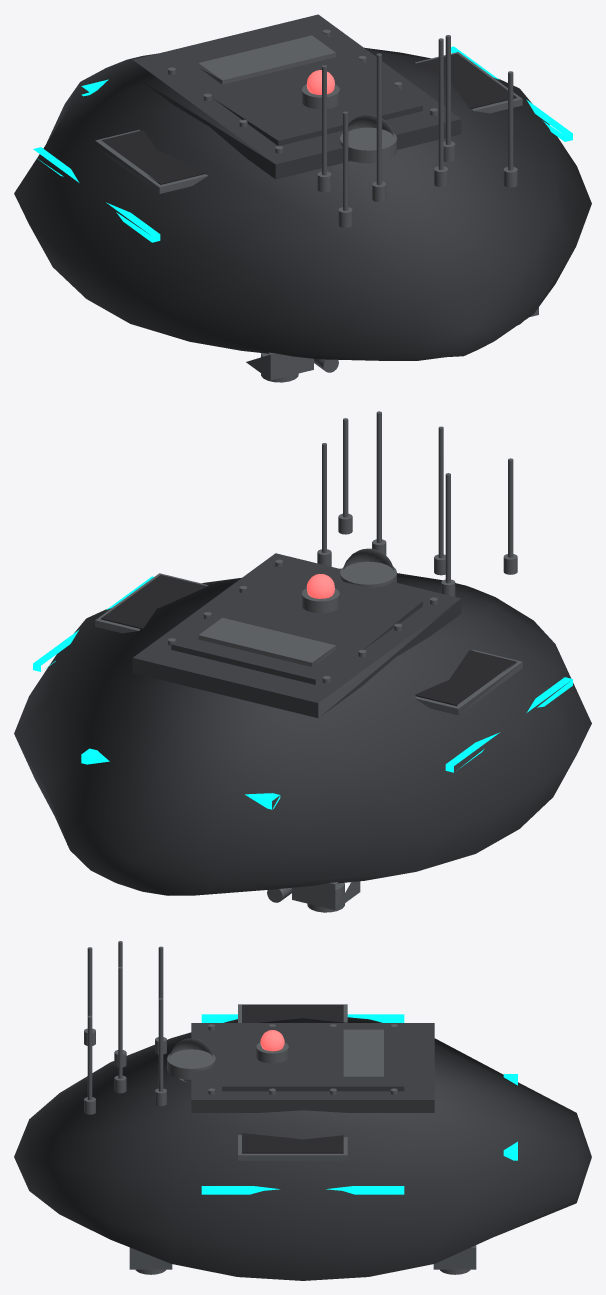
File: GARUDA_BODY.glb
3 renders of one model, top to bottom at view 1: azimuth 30°, elevation 25°; view 2: azimuth 150°, elevation 25°; view 3: azimuth 270°, elevation 25°, orthographic. The views are drawn at different scales.
Parts seen in each view (by area): view 1: BODY_MAIN, AIRFRAME_SOCKETS, AIRFRAME_LOUVERS, AIRFRAME_DETAILS; view 2: BODY_MAIN, AIRFRAME_SOCKETS, AIRFRAME_LOUVERS, AIRFRAME_DETAILS; view 3: BODY_MAIN, AIRFRAME_SOCKETS, AIRFRAME_LOUVERS, AIRFRAME_DETAILS.
Part boxes in pixels (box(x1,y1,x2,y2)): BODY_MAIN: box(14, 14, 591, 360); AIRFRAME_SOCKETS: box(95, 29, 538, 382); AIRFRAME_LOUVERS: box(101, 53, 516, 184); AIRFRAME_DETAILS: box(33, 46, 572, 242); BODY_MAIN: box(14, 553, 591, 895); AIRFRAME_SOCKETS: box(67, 411, 522, 912); AIRFRAME_LOUVERS: box(101, 575, 516, 705); AIRFRAME_DETAILS: box(33, 576, 572, 809); BODY_MAIN: box(14, 1017, 591, 1280); AIRFRAME_SOCKETS: box(84, 941, 476, 1274); AIRFRAME_LOUVERS: box(242, 1005, 343, 1153); AIRFRAME_DETAILS: box(201, 1014, 517, 1194).
Bounding box in the file's own units: 0.47 × 0.2945 × 0.57.
